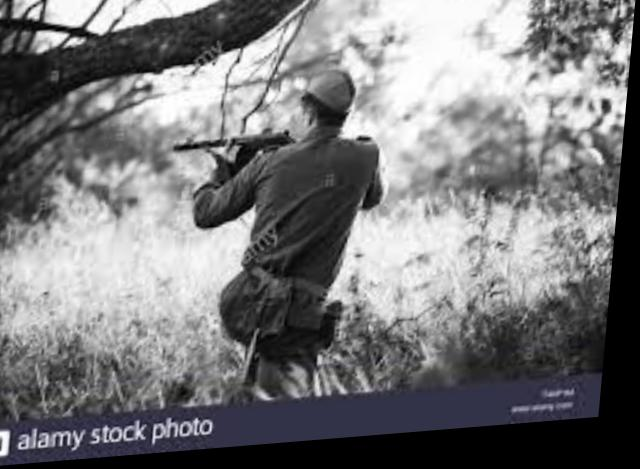other: (152, 60, 396, 412)
